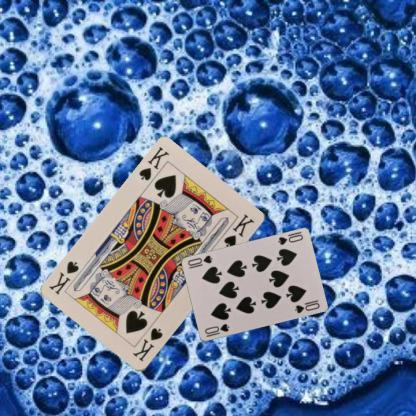10s: (202, 321, 231, 339), (275, 232, 304, 246)
Ks: (136, 144, 171, 182), (130, 326, 164, 364)
